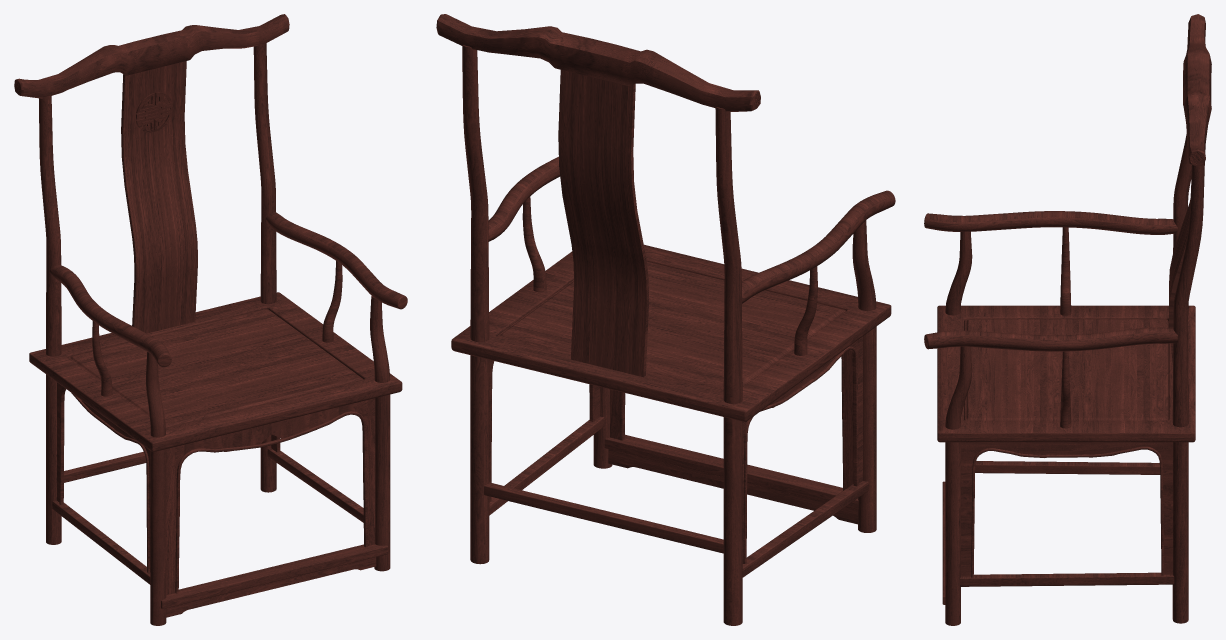
Rendered from MD-明主位.fbx.
3 views of the same model, side by side, from view 1: azimuth 30°, elevation 25°; view 2: azimuth 150°, elevation 25°; view 3: azimuth 270°, elevation 25° (orthographic). The views are drawn at different scales.
Visible parts, largest first — view 1: MD-明主位; view 2: MD-明主位; view 3: MD-明主位.
Part boxes in pixels (left/top/right/bottom): MD-明主位: left=14, top=14, right=407, bottom=625; MD-明主位: left=436, top=14, right=895, bottom=625; MD-明主位: left=924, top=14, right=1211, bottom=625.
Bounding box in the file's own units: 0.7003 × 0.624 × 1.18.
